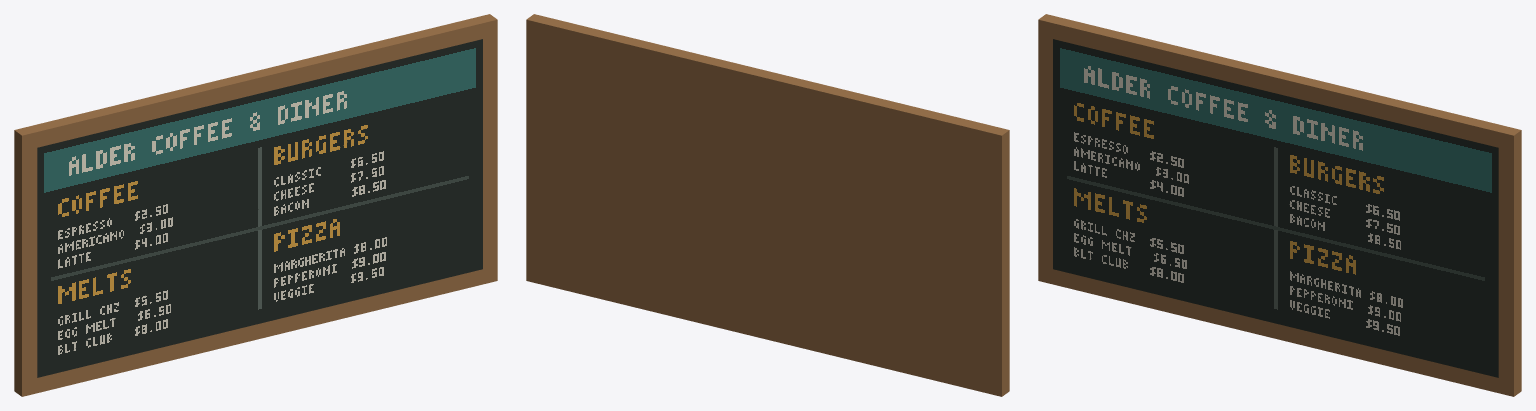
Rendered from menu_board.glb.
The picture shows the model from 3 angles, left to right: view 1: azimuth 30°, elevation 25°; view 2: azimuth 150°, elevation 25°; view 3: azimuth 330°, elevation 25°; orthographic projection.
Parts seen in each view (by area): view 1: Menu_Board; view 2: Menu_Board; view 3: Menu_Board.
Part boxes in pixels (x1,y1,x2,y2): Menu_Board: (14,14,497,396); Menu_Board: (526,14,1009,396); Menu_Board: (1038,14,1521,396).
Size of the model in its own units: 1.6 by 0.84 by 0.0465.
Materials: 1 (1 with a texture image).
